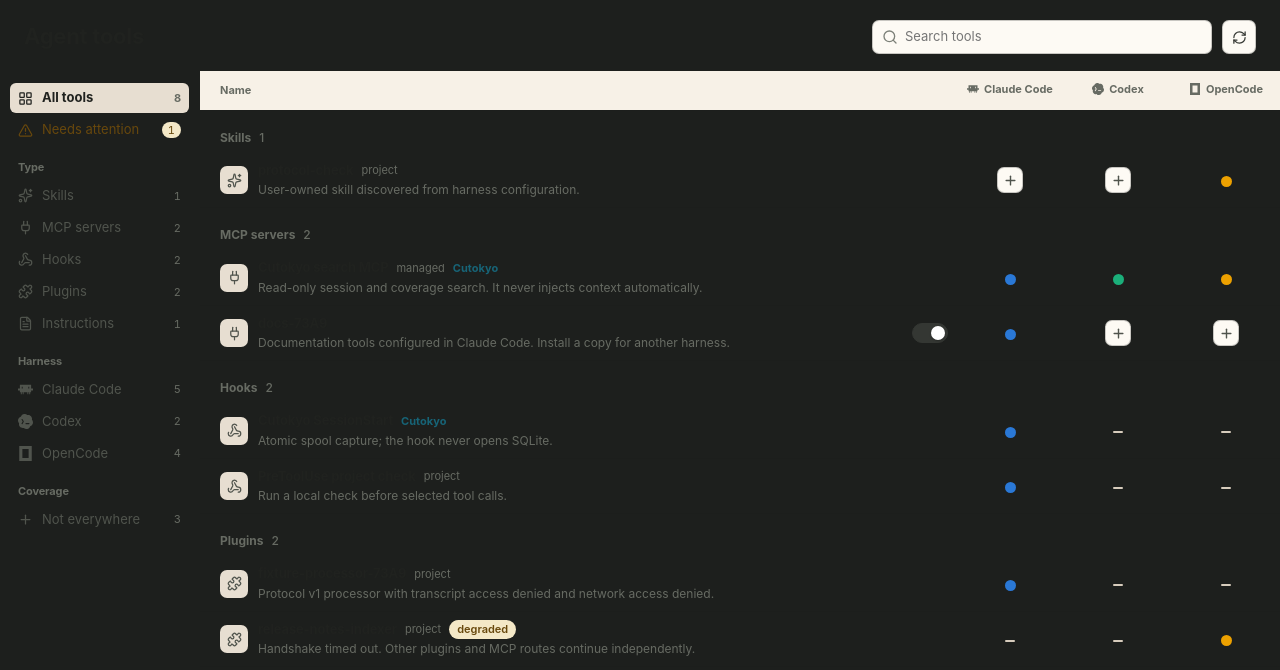
Test case: agent tool management › turns an MCP server off and on without treating it as a problem
Click the switch named "docs-73A9 enabled". click: coordinates (930, 333)
box: [912,323,948,343]
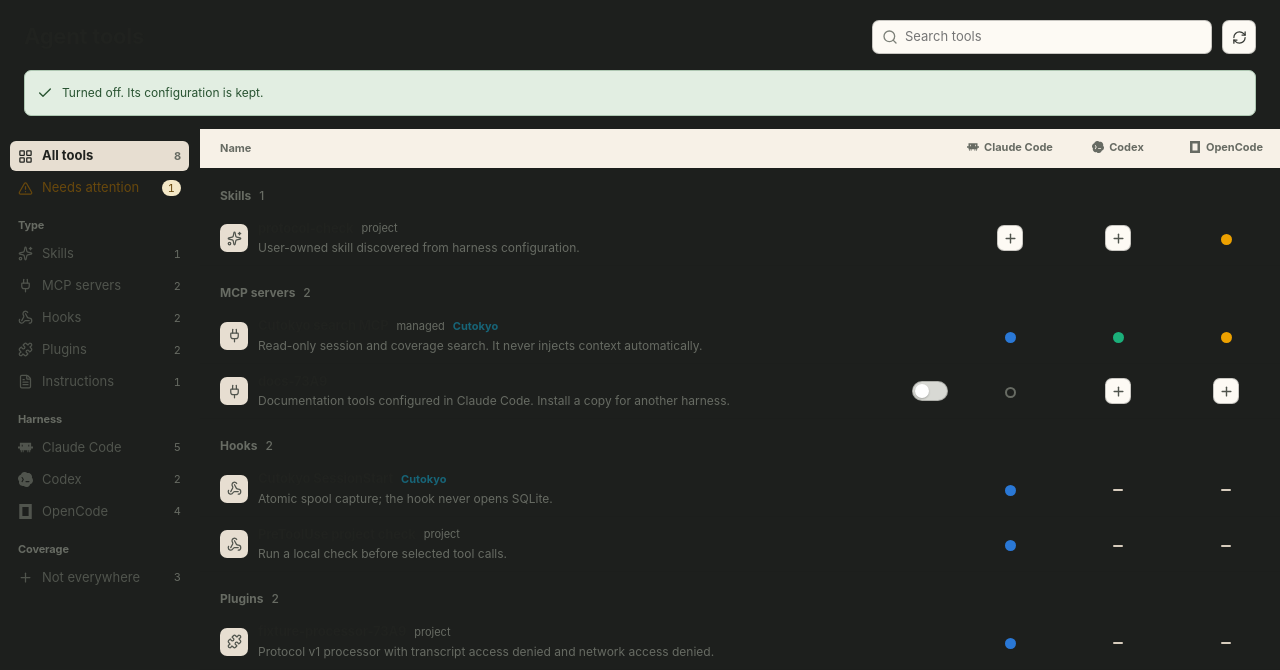
Now the switch named "docs-73A9 enabled" is not checked
Now the picture named "Turned off in Claude Code" is shown, box [1004,387,1016,398]
Click the switch named "docs-73A9 enabled". click: coordinates (930, 391)
box: [912,381,948,401]
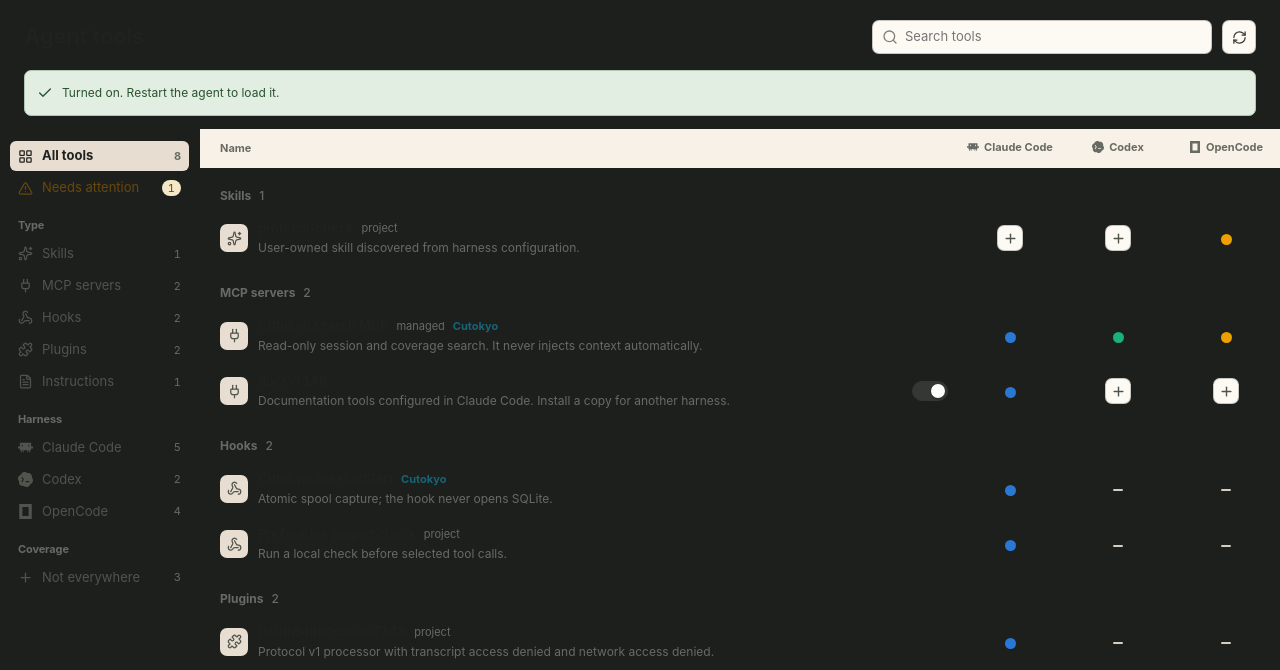
Now the 2nd picture named "Installed in Claude Code" is shown, box [1004,387,1016,398]
